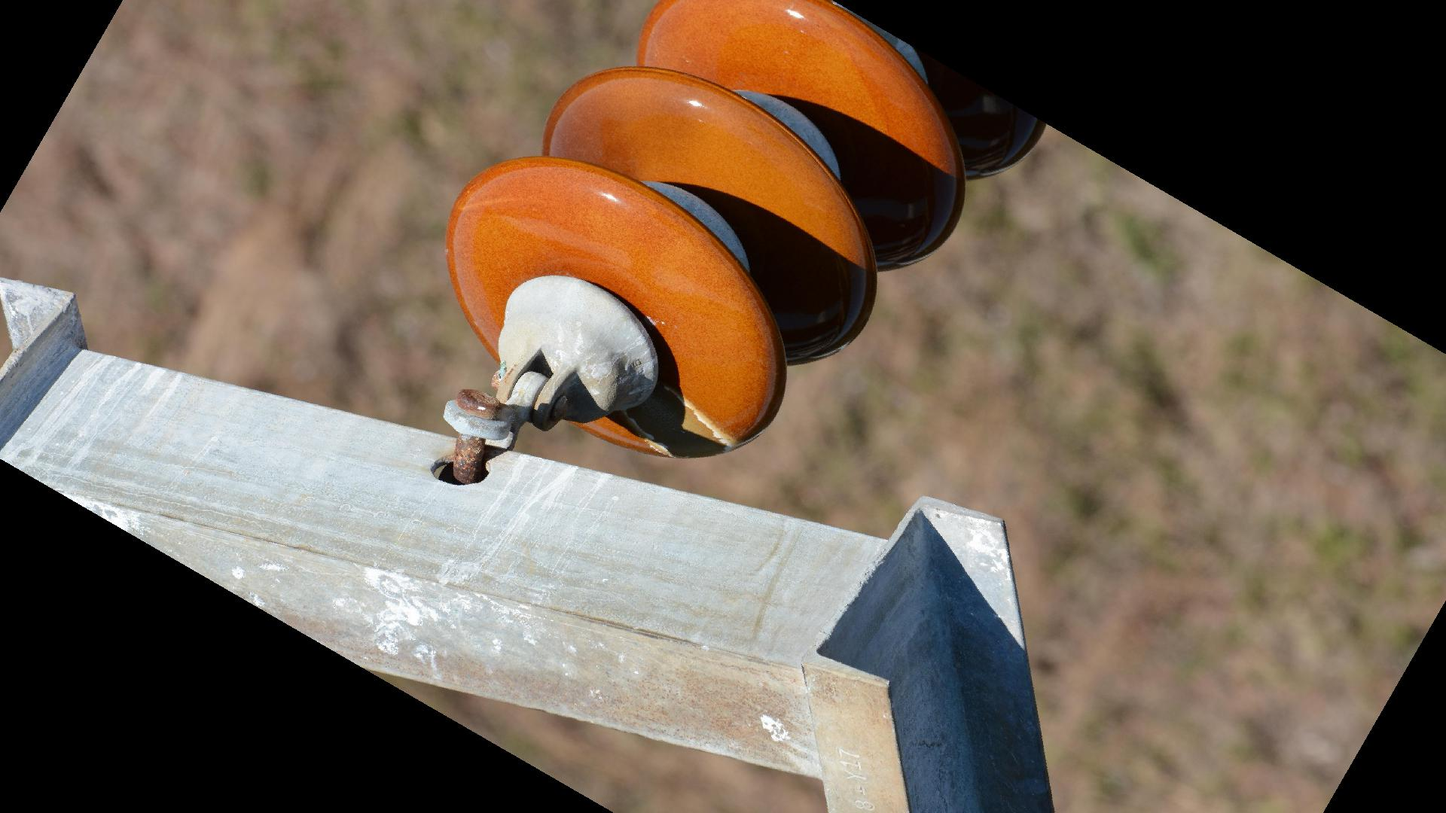insulator: (438, 1, 1057, 467)
insulator_flashover: (624, 379, 741, 464)
